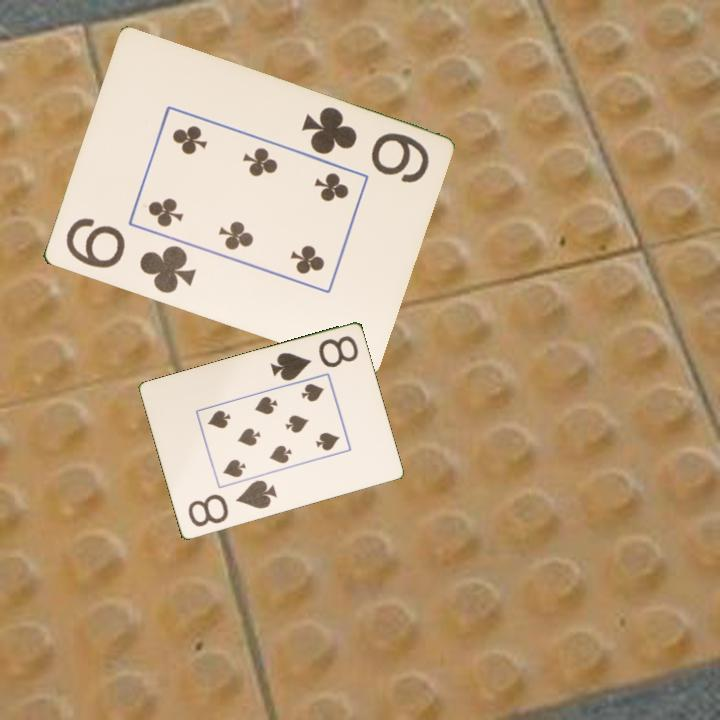6c: (61, 214, 199, 297), (297, 103, 432, 187)
8s: (184, 477, 280, 530), (266, 332, 361, 384)
